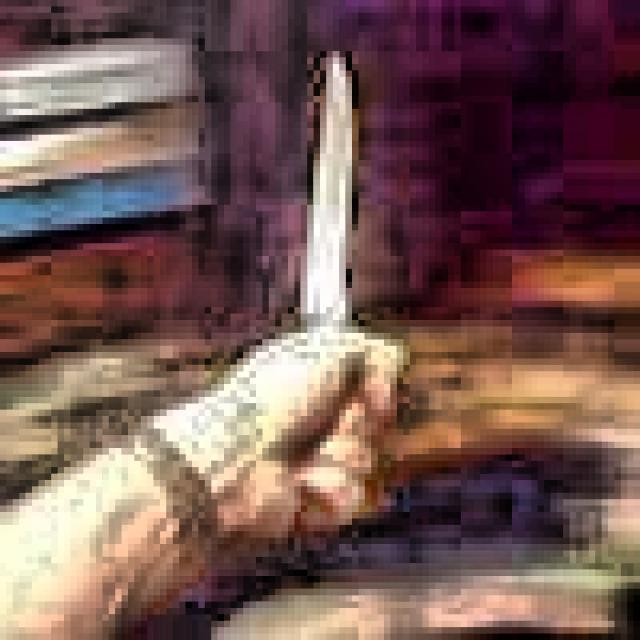knife: (302, 52, 355, 539)
